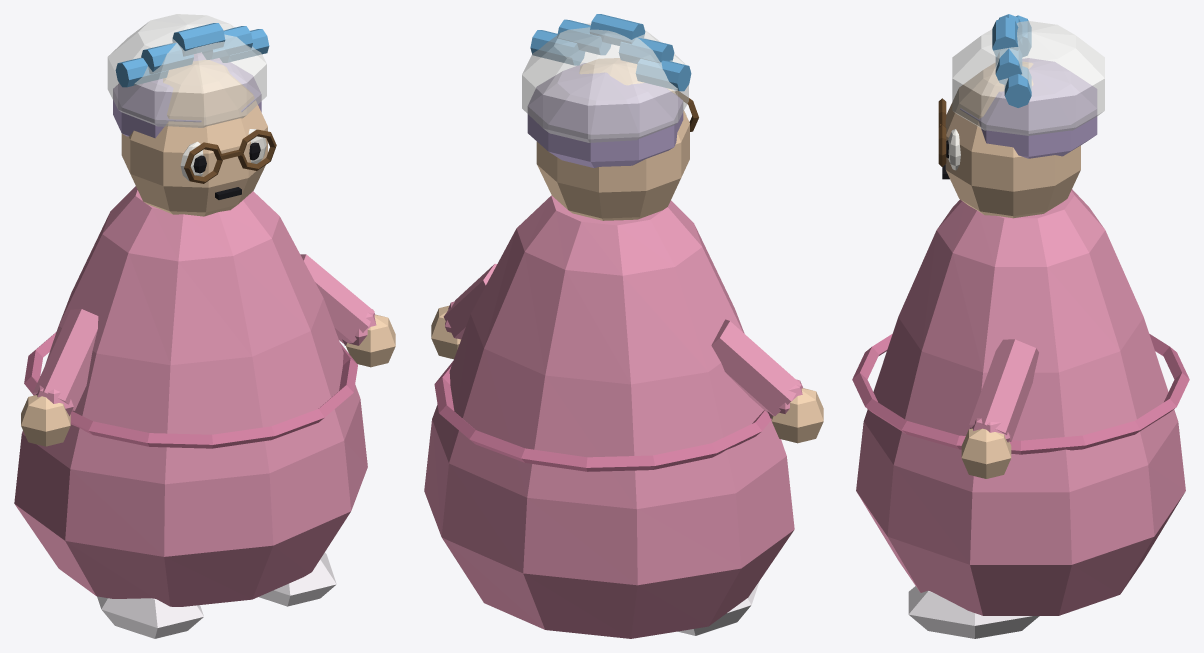
The model's file is npc_pepa.glb.
3 renders of one model, left to right at view 1: azimuth 30°, elevation 25°; view 2: azimuth 150°, elevation 25°; view 3: azimuth 270°, elevation 25°, orthographic. The views are drawn at different scales.
Visible parts, largest first — view 1: body_housecoat_pink, head_skin_crema, cap_hairnet, arms_housecoat_pink, body_housecoat_belt, cap_curler_blue, legs_slippers_fluffy, arms_skin_crema, head_hair_lilac, face_glasses_tortoise, face_black, face_white; view 2: body_housecoat_pink, cap_hairnet, head_hair_lilac, head_skin_crema, cap_curler_blue, body_housecoat_belt, arms_housecoat_pink, arms_skin_crema, legs_slippers_fluffy; view 3: body_housecoat_pink, cap_hairnet, head_skin_crema, head_hair_lilac, body_housecoat_belt, arms_housecoat_pink, legs_slippers_fluffy, cap_curler_blue, arms_skin_crema, face_glasses_tortoise.
Boxes of the visible parts, left/top/right/bottom form: body_housecoat_pink: left=14, top=186, right=367, bottom=606; head_skin_crema: left=121, top=60, right=267, bottom=216; cap_hairnet: left=107, top=14, right=266, bottom=127; arms_housecoat_pink: left=33, top=254, right=376, bottom=416; body_housecoat_belt: left=24, top=332, right=357, bottom=448; cap_curler_blue: left=115, top=23, right=269, bottom=87; legs_slippers_fluffy: left=97, top=552, right=336, bottom=638; arms_skin_crema: left=21, top=314, right=395, bottom=446; head_hair_lilac: left=113, top=53, right=261, bottom=138; face_glasses_tortoise: left=184, top=129, right=276, bottom=183; face_black: left=193, top=142, right=260, bottom=199; face_white: left=180, top=129, right=266, bottom=180; body_housecoat_pink: left=424, top=195, right=794, bottom=638; cap_hairnet: left=522, top=23, right=688, bottom=142; head_hair_lilac: left=527, top=63, right=683, bottom=168; head_skin_crema: left=536, top=58, right=689, bottom=220; cap_curler_blue: left=530, top=14, right=691, bottom=91; body_housecoat_belt: left=434, top=361, right=771, bottom=471; arms_housecoat_pink: left=443, top=263, right=802, bottom=418; arms_skin_crema: left=431, top=306, right=823, bottom=443; legs_slippers_fluffy: left=678, top=581, right=759, bottom=635; body_housecoat_pink: left=856, top=189, right=1185, bottom=615; cap_hairnet: left=952, top=21, right=1104, bottom=135; head_skin_crema: left=945, top=62, right=1080, bottom=218; head_hair_lilac: left=960, top=58, right=1097, bottom=158; body_housecoat_belt: left=852, top=334, right=1189, bottom=454; arms_housecoat_pink: left=969, top=339, right=1038, bottom=442; legs_slippers_fluffy: left=908, top=586, right=1039, bottom=638; cap_curler_blue: left=992, top=14, right=1031, bottom=107; arms_skin_crema: left=961, top=428, right=1011, bottom=478; face_glasses_tortoise: left=938, top=98, right=946, bottom=166.
Size of the model in its own units: 1.13 by 1.64 by 0.88.
